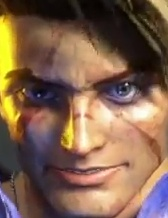kevin: (10, 16, 164, 217)
